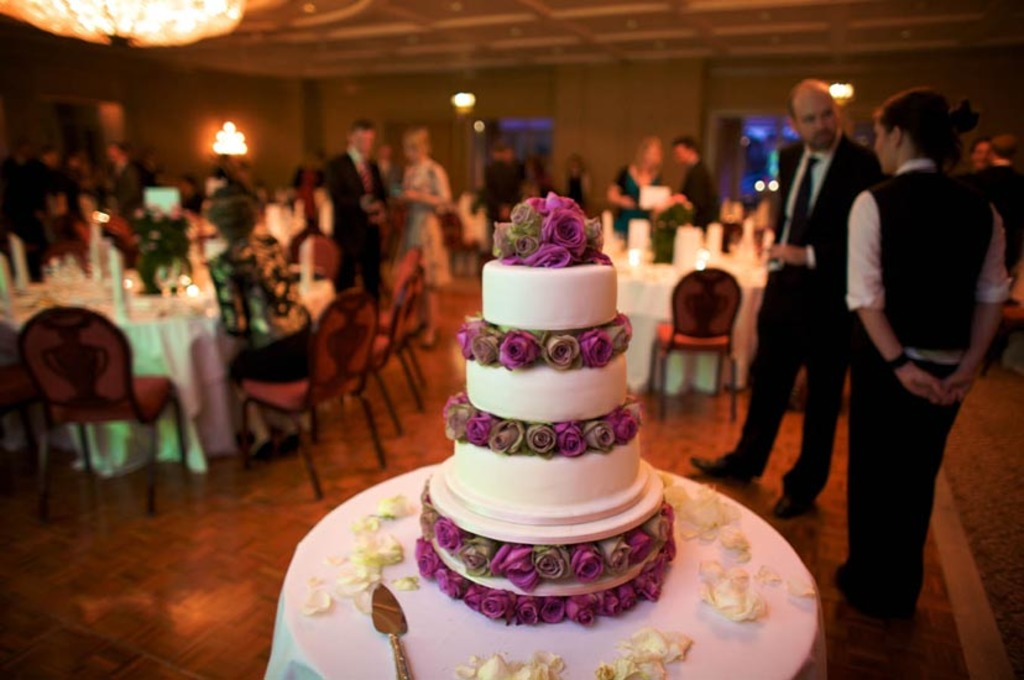cake: (408, 188, 680, 624)
